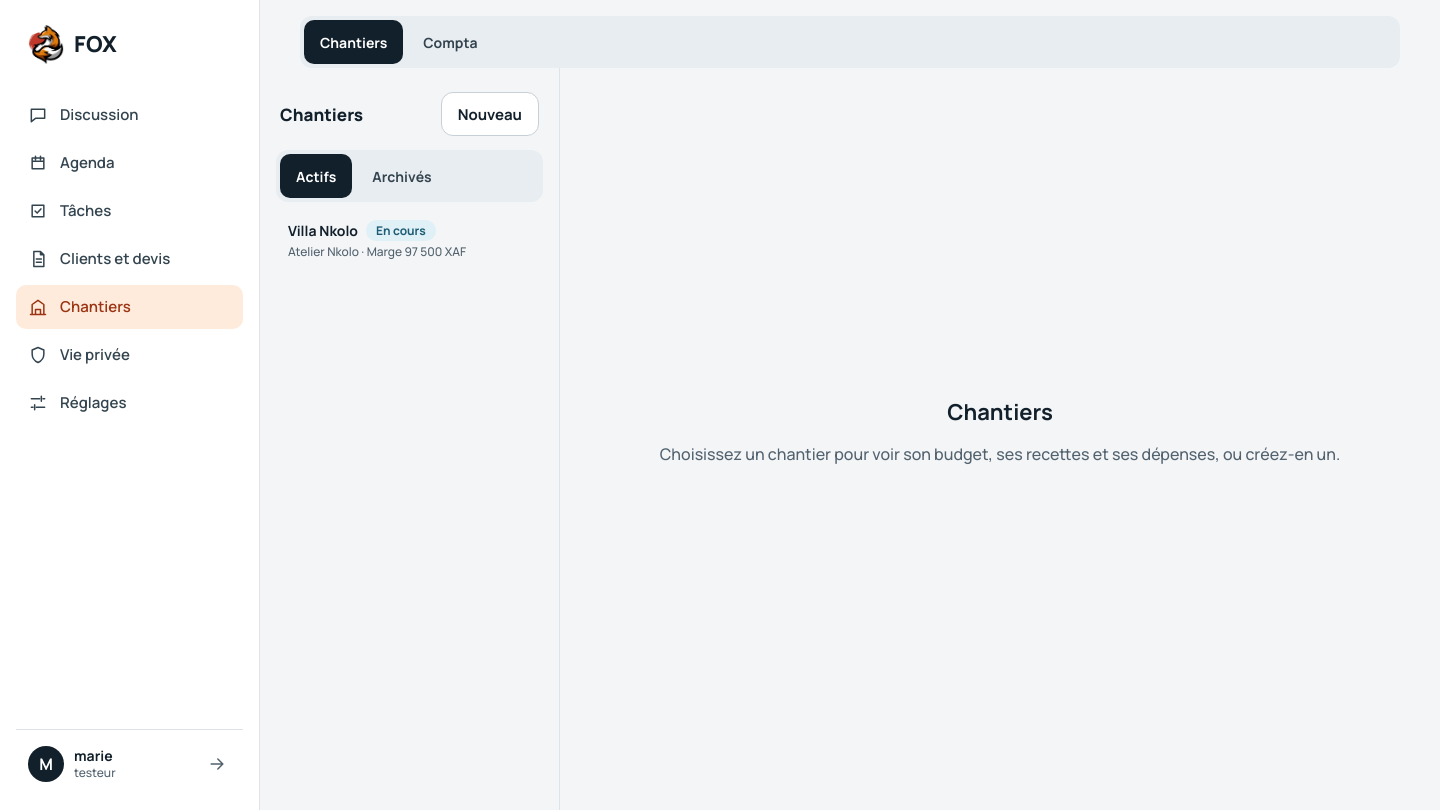
Test: Compta › affiche le bilan du mois, les catégories et les écritures
Click the tab "Compta". click: (450, 42)
box: x1=407 y1=20 x2=494 y2=64
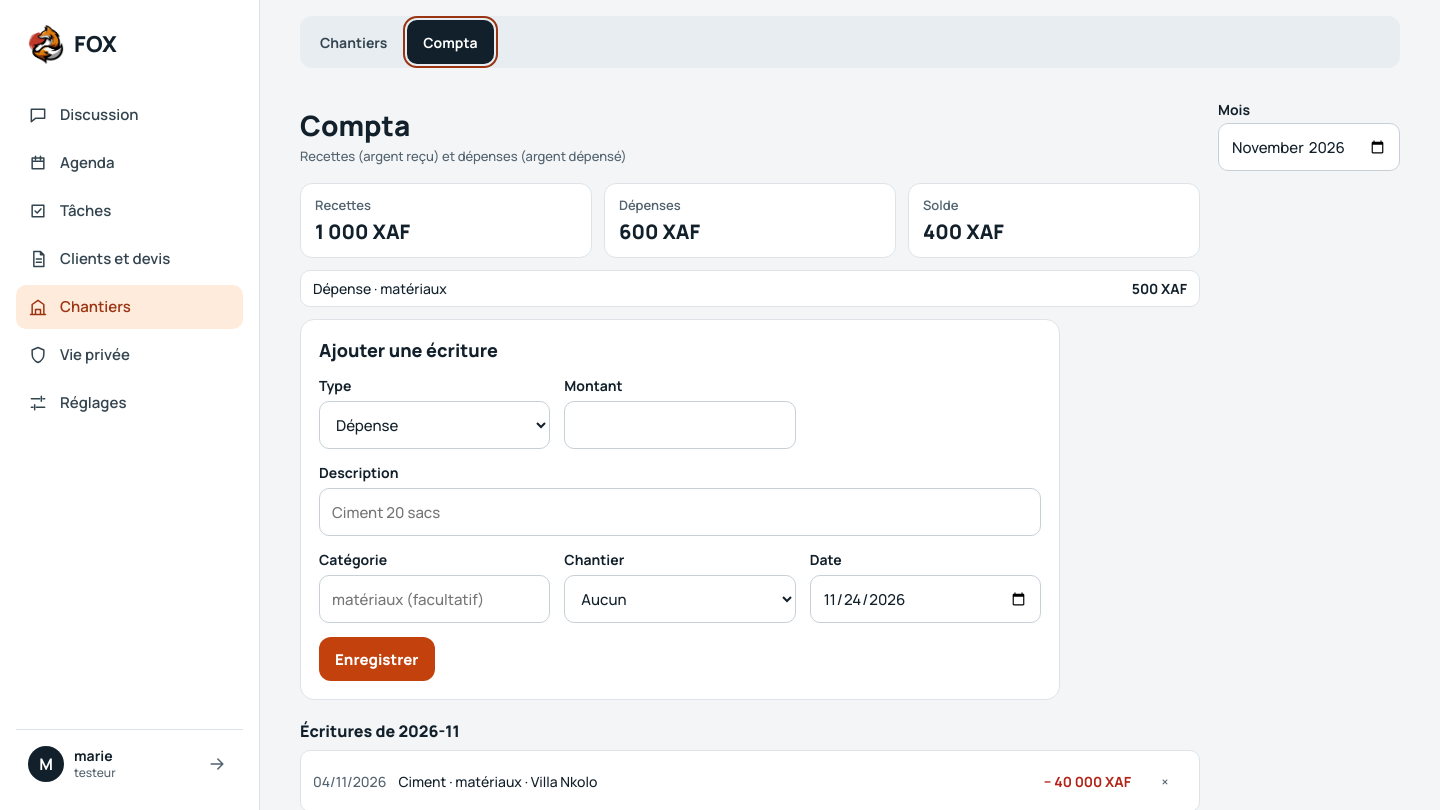
Expected: the text "1 000 XAF" is shown, x1=315 y1=218 x2=410 y2=245
Expected: the text "600 XAF" is shown, x1=619 y1=218 x2=700 y2=245
Expected: the text "400 XAF" is shown, x1=923 y1=218 x2=1004 y2=245
